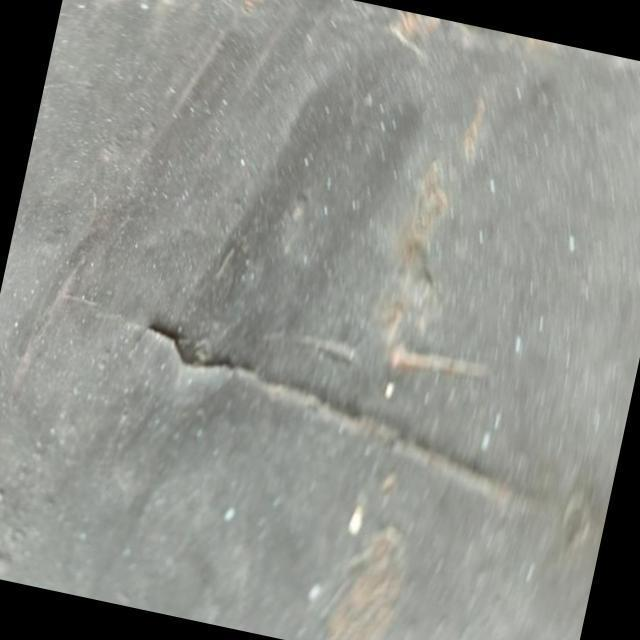defect: (142, 321, 538, 505)
